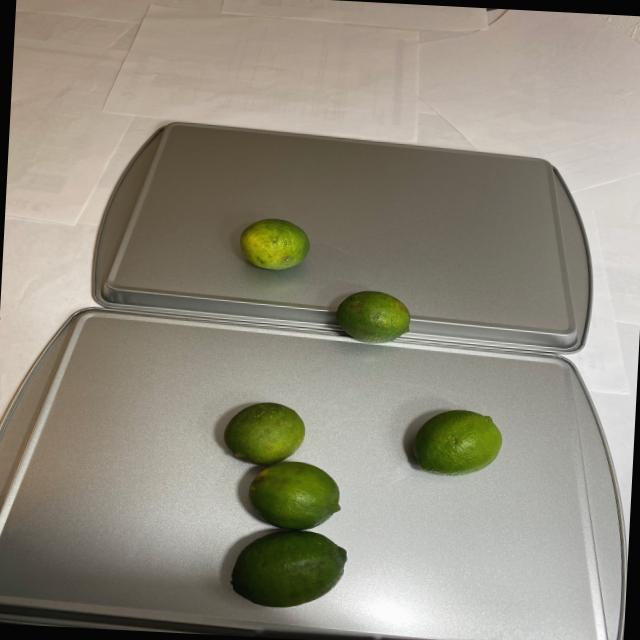lemon: (194, 396, 360, 620), (229, 216, 419, 345), (403, 394, 508, 484)
